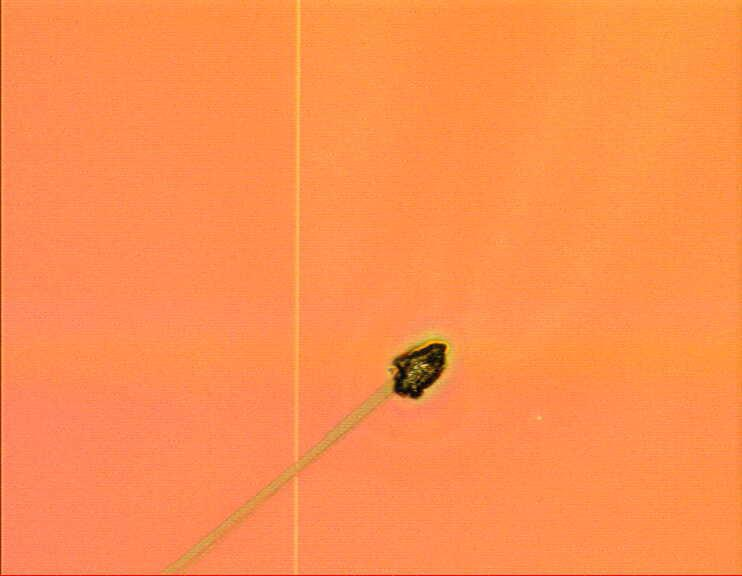PIQ PARTICLE: (155, 333, 457, 576)
